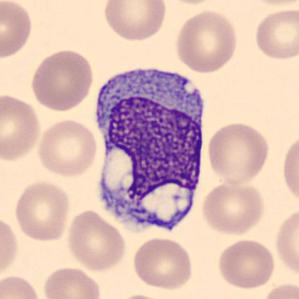Monocyte: (90, 55, 211, 242)
RBC: (205, 120, 272, 186), (28, 47, 96, 112), (173, 8, 239, 74), (64, 208, 128, 272), (35, 118, 100, 178), (199, 180, 267, 237), (12, 179, 72, 243), (130, 236, 196, 292), (215, 237, 277, 291), (0, 92, 43, 164), (100, 0, 168, 43), (251, 6, 299, 61), (41, 264, 104, 299), (0, 0, 34, 60), (272, 205, 298, 279), (280, 131, 299, 208), (0, 213, 20, 280), (0, 272, 44, 299), (259, 281, 298, 299), (243, 0, 299, 7), (115, 292, 170, 299), (158, 0, 222, 6)
